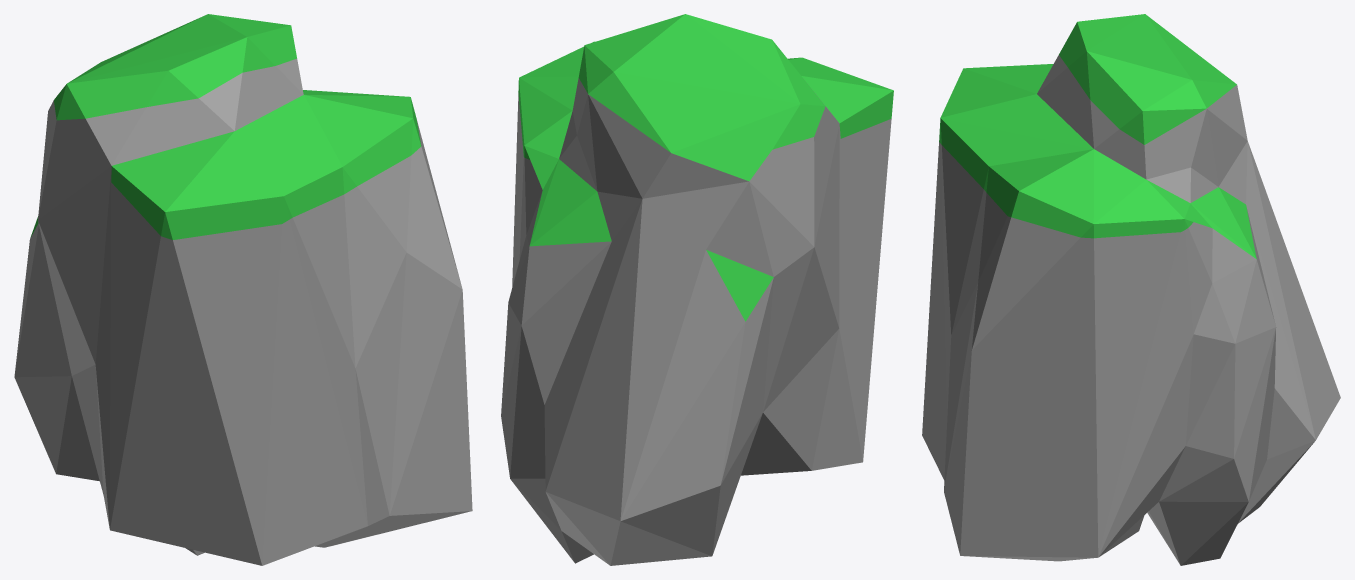
File: Rocha_02.fbx
3 views of the same model, side by side, from view 1: azimuth 30°, elevation 25°; view 2: azimuth 150°, elevation 25°; view 3: azimuth 270°, elevation 25° (orthographic). The views are drawn at different scales.
Parts seen in each view (by area): view 1: Icosphere.004; view 2: Icosphere.004; view 3: Icosphere.004.
Boxes of the visible parts, x1,y1,x2,y2 form: Icosphere.004: [14, 14, 472, 565]; Icosphere.004: [501, 14, 893, 565]; Icosphere.004: [922, 14, 1340, 565].
Bounding box in the file's own units: 620 × 892 × 693.
